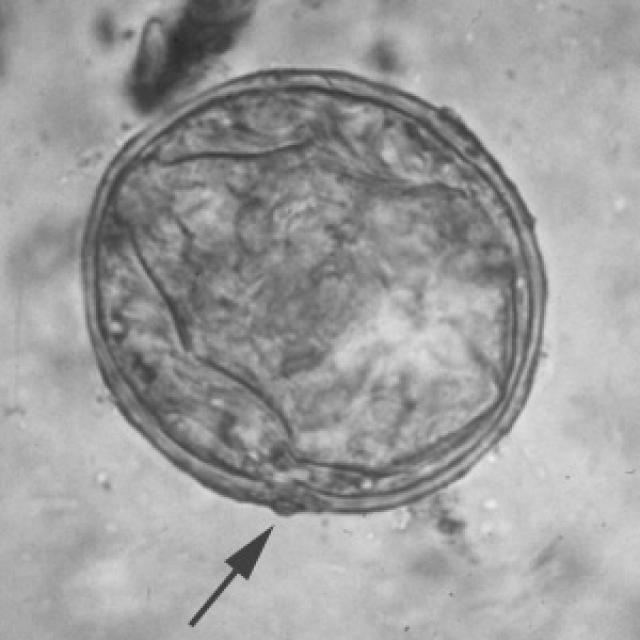Schistosoma: (78, 58, 549, 527)
